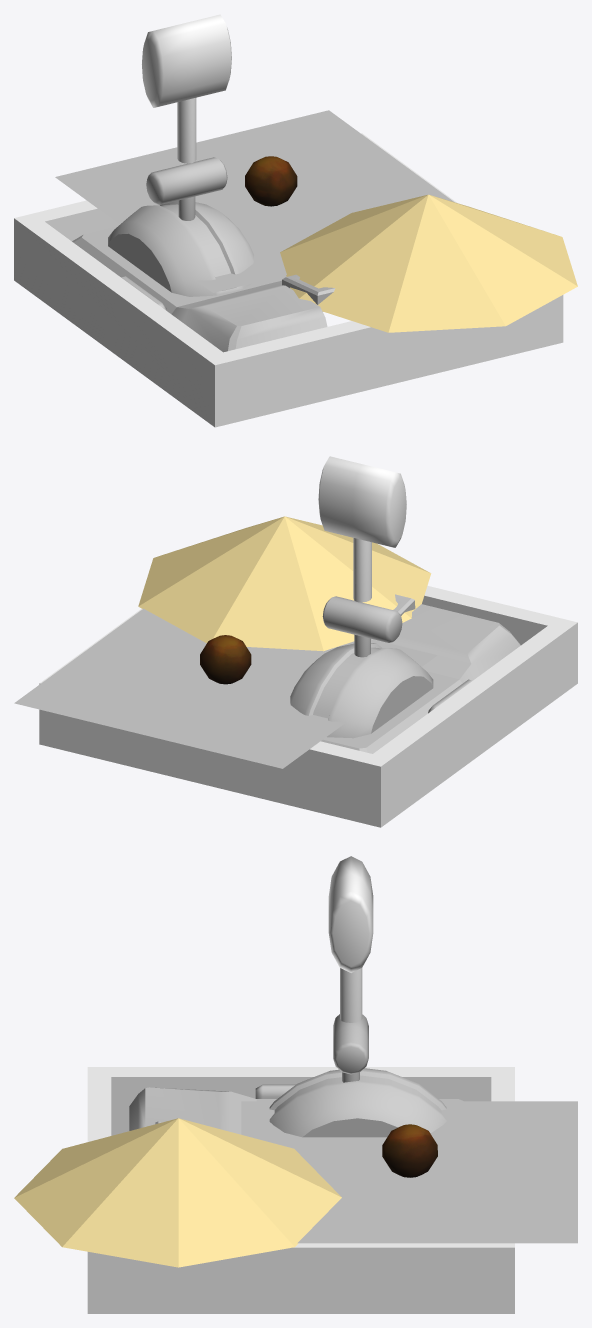
File: NeedyDischargeComponent.fbx
3 renders of one model, top to bottom at view 1: azimuth 30°, elevation 25°; view 2: azimuth 150°, elevation 25°; view 3: azimuth 270°, elevation 25°, orthographic. The views are drawn at different scales.
Parts seen in each view (by area): view 1: Component_Highlight, LightGlow, LightGlow_3, Background, Parts, Highlight, Handle, LightBulb; view 2: Component_Highlight, LightGlow_3, LightGlow, Parts, Background, Highlight, Handle, LightBulb; view 3: Component_Highlight, LightGlow, LightGlow_3, Parts, Highlight, Background, LightBulb, Handle.
Part boxes in pixels (x1,y1,x2,y2): Component_Highlight: (14,133,563,427); LightGlow: (280,194,577,332); LightGlow_3: (55,110,454,292); Background: (72,226,335,352); Parts: (108,200,253,296); Highlight: (142,14,231,163); Handle: (146,157,227,220); LightBulb: (245,156,297,206); Component_Highlight: (39,585,577,827); LightGlow_3: (14,608,437,768); LightGlow: (138,516,431,651); Parts: (290,643,433,738); Background: (321,594,520,753); Highlight: (318,456,406,602); Handle: (322,596,402,657); LightBulb: (200,635,251,684); Component_Highlight: (87,1067,514,1313); LightGlow: (14,1118,341,1267); LightGlow_3: (241,1101,577,1243); Parts: (269,1068,446,1137); Highlight: (328,856,373,1022); Background: (129,1084,463,1134); LightBulb: (382,1124,437,1177); Handle: (333,1014,368,1082).
Size of the model in its own units: 25.1 by 17.88 by 29.54.
